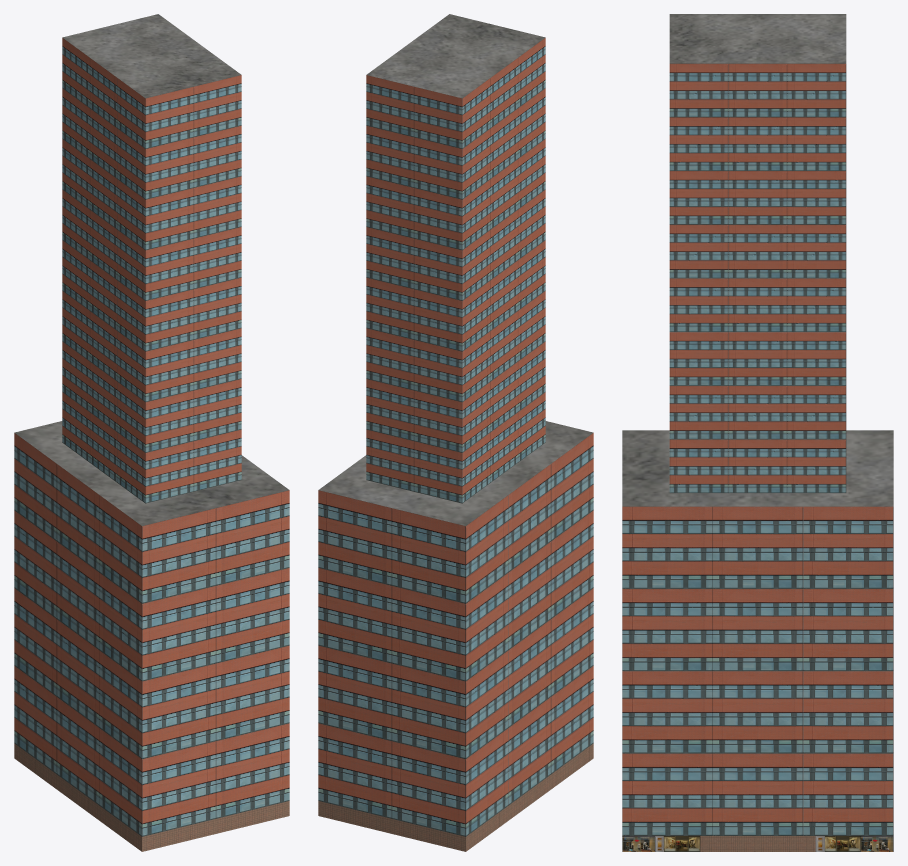
File: Building014.fbx
3 renders of one model, left to right at view 1: azimuth 30°, elevation 25°; view 2: azimuth 150°, elevation 25°; view 3: azimuth 270°, elevation 25°, orthographic. The views are drawn at different scales.
Parts seen in each view (by area): view 1: Building014; view 2: Building014; view 3: Building014.
Part boxes in pixels (x1,y1,x2,y2): Building014: (14,14,289,851); Building014: (318,14,593,851); Building014: (622,14,893,851).
Bounding box in the file's own units: 31.18 × 148 × 46.77.
